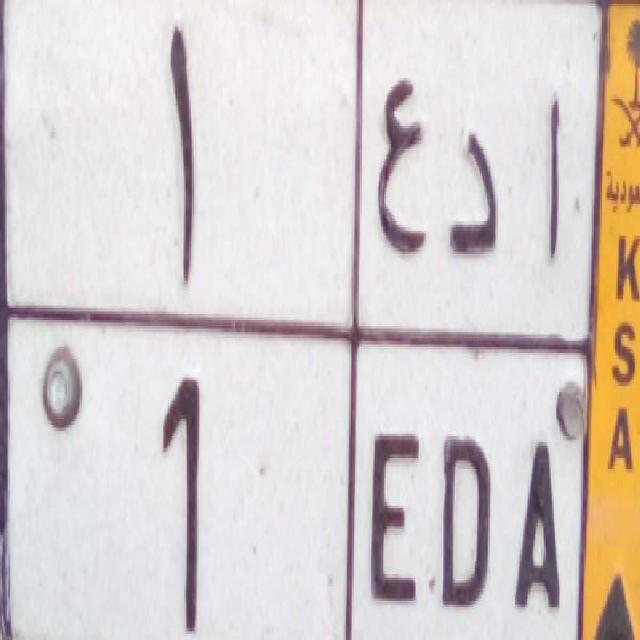license_plate: (0, 307, 586, 640)
